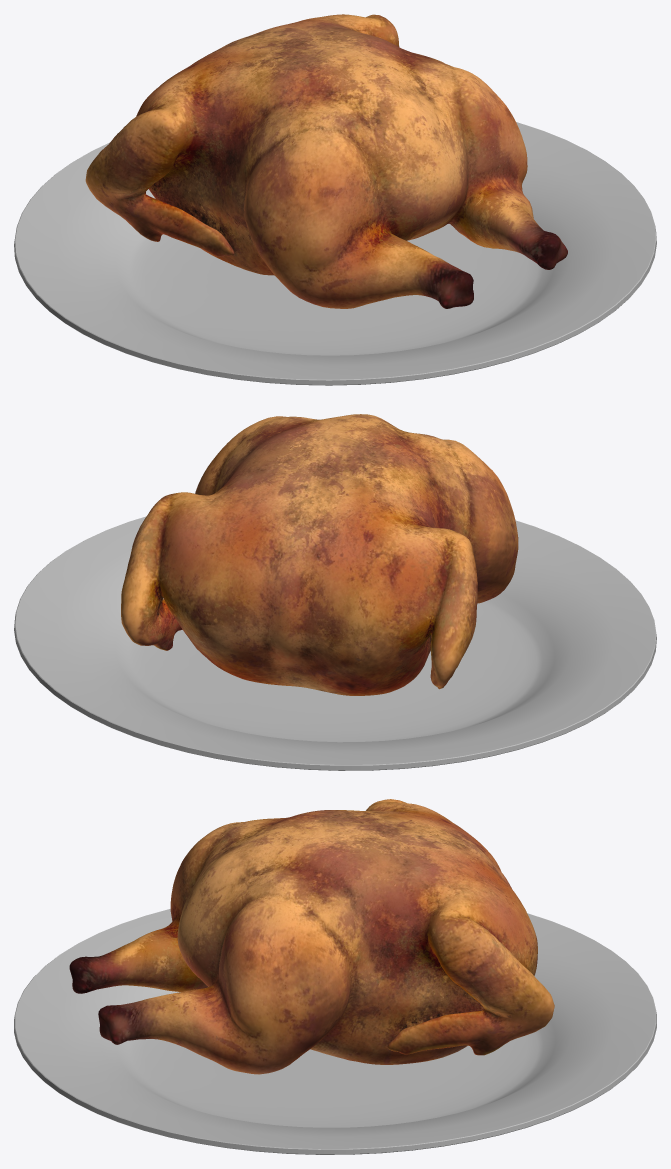
File: roasted_chicken2.glb
3 views of the same model, one above another, from view 1: azimuth 30°, elevation 25°; view 2: azimuth 150°, elevation 25°; view 3: azimuth 270°, elevation 25° (orthographic).
Visible parts, largest first — view 1: Group20576.004, plate_plate_0; view 2: Group20576.004, plate_plate_0; view 3: Group20576.004, plate_plate_0.
Part boxes in pixels (bbox=[...]): Group20576.004: bbox=[85, 14, 567, 308]; plate_plate_0: bbox=[14, 122, 656, 385]; Group20576.004: bbox=[121, 414, 518, 695]; plate_plate_0: bbox=[14, 516, 656, 770]; Group20576.004: bbox=[69, 799, 554, 1074]; plate_plate_0: bbox=[14, 909, 656, 1154].
Bounding box in the file's own units: 0.599 × 0.2388 × 0.5991.
2 materials, 1 textured.
